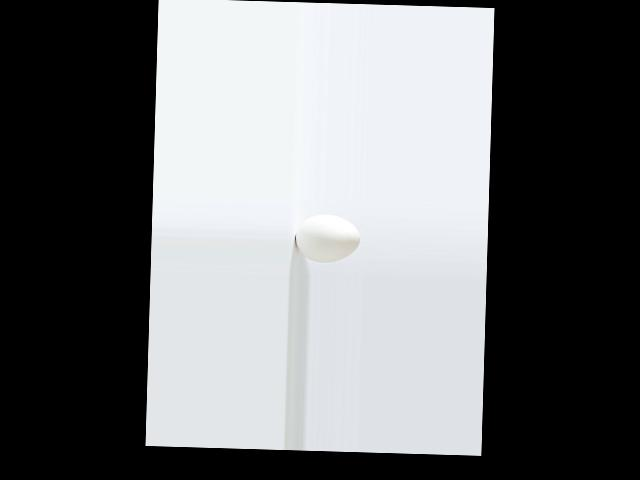egg: (294, 213, 361, 262)
